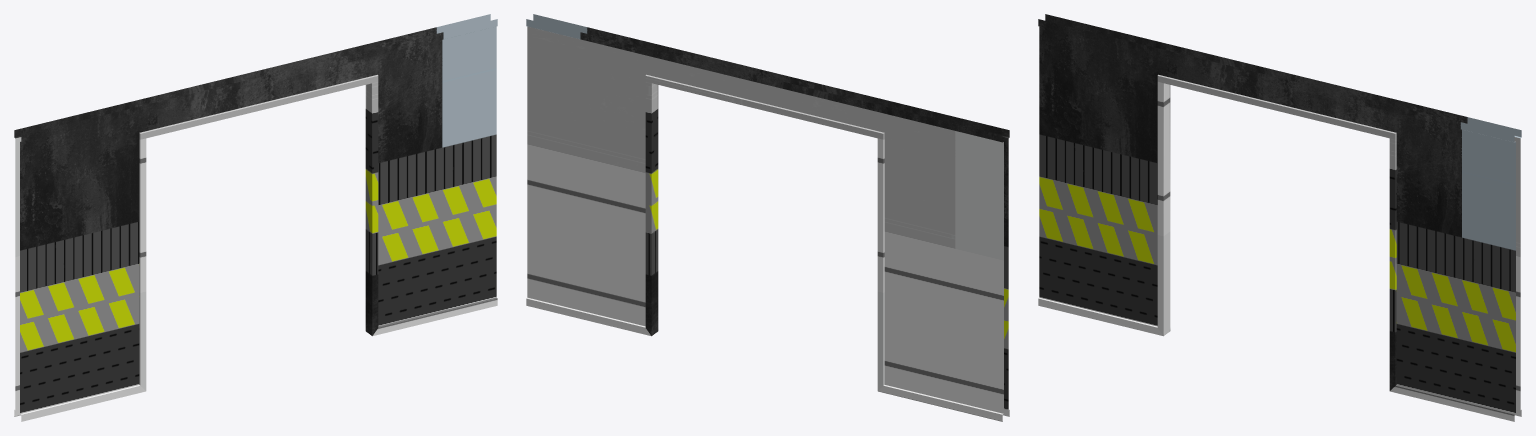
The model's file is SM_WallWithDoor_400x230x10.fbx.
3 renders of one model, left to right at view 1: azimuth 30°, elevation 25°; view 2: azimuth 150°, elevation 25°; view 3: azimuth 330°, elevation 25°, orthographic.
Parts seen in each view (by area): view 1: WallWithDoor_Var1_400x230; view 2: WallWithDoor_Var1_400x230; view 3: WallWithDoor_Var1_400x230.
Part boxes in pixels (x1,y1,x2,y2): WallWithDoor_Var1_400x230: (14,14,497,421); WallWithDoor_Var1_400x230: (526,14,1009,421); WallWithDoor_Var1_400x230: (1038,14,1521,421).
Size of the model in its own units: 400 by 230 by 10.
